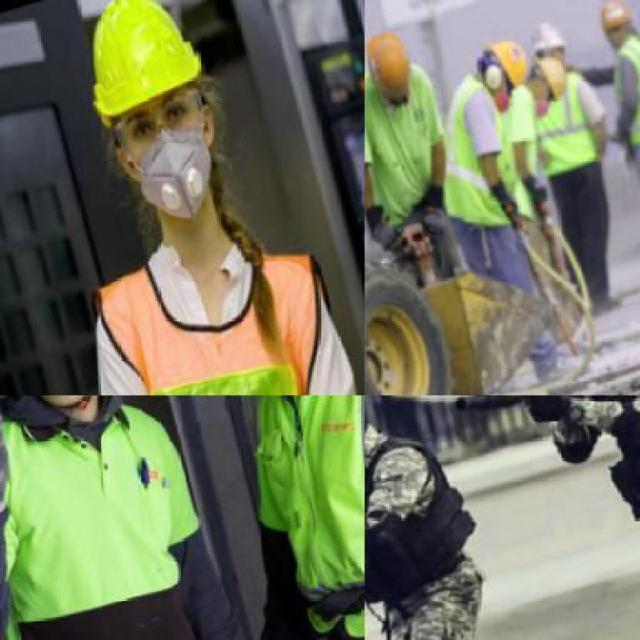Vest: (86, 211, 363, 394), (365, 429, 492, 634), (415, 54, 528, 241), (516, 66, 606, 189), (570, 396, 638, 526), (596, 40, 638, 163)
